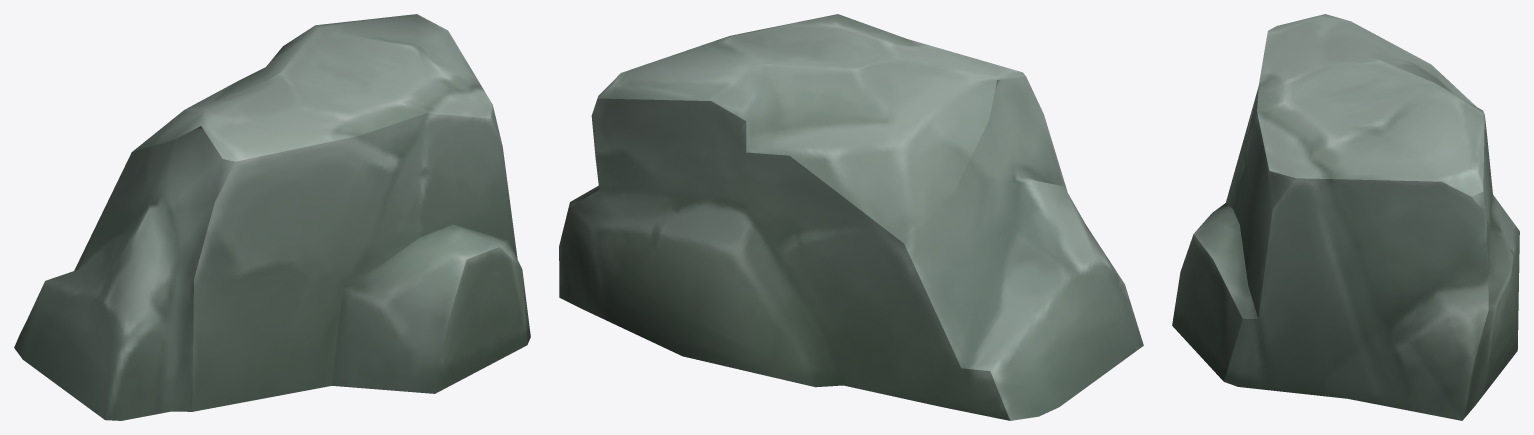
File: field_rocks_ore_001b.fbx
The picture shows the model from 3 angles, left to right: view 1: azimuth 30°, elevation 25°; view 2: azimuth 150°, elevation 25°; view 3: azimuth 270°, elevation 25°; orthographic projection. The views are drawn at different scales.
Visible parts, largest first — view 1: field_rocks_ore_001b; view 2: field_rocks_ore_001b; view 3: field_rocks_ore_001b.
Part boxes in pixels (box(x1,y1,x2,y2)): field_rocks_ore_001b: box(14, 14, 530, 420); field_rocks_ore_001b: box(559, 14, 1143, 420); field_rocks_ore_001b: box(1172, 14, 1519, 420).
Bounding box in the file's own units: 137 × 71.84 × 89.92.
